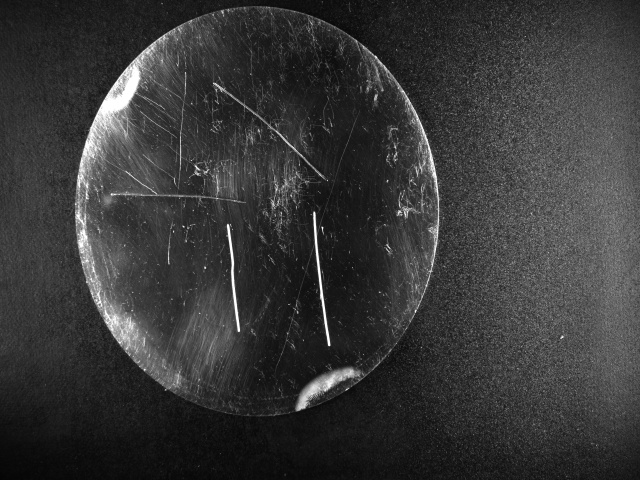ca_shang: (204, 79, 338, 189), (105, 187, 256, 210), (311, 207, 333, 346), (219, 215, 243, 338), (166, 69, 184, 194), (164, 211, 175, 269)
